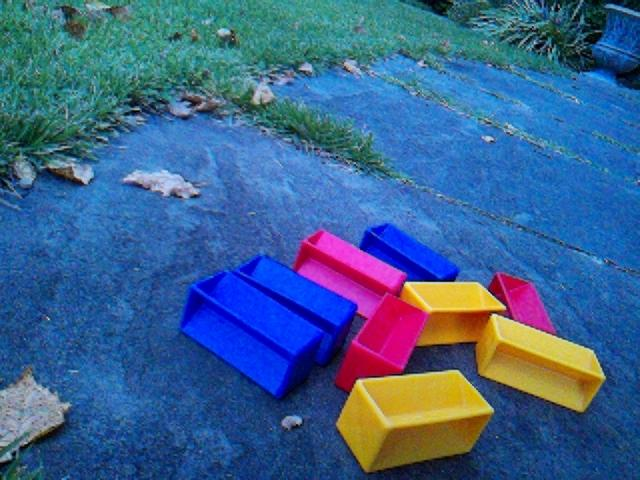blue: (179, 268, 325, 400), (233, 253, 358, 366), (359, 221, 460, 282)
red: (294, 228, 409, 321), (334, 292, 430, 393), (488, 270, 558, 336)
yellow: (335, 368, 495, 474), (474, 312, 607, 414), (400, 279, 507, 347)
